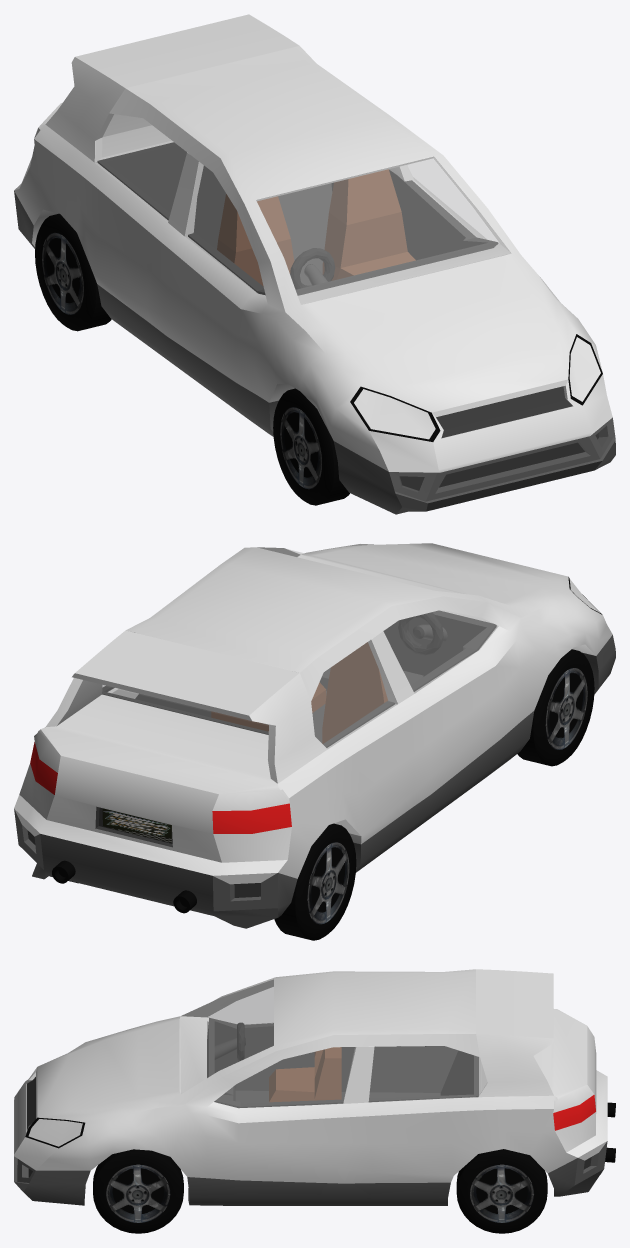
The model's file is GTI.fbx.
3 renders of one model, top to bottom at view 1: azimuth 30°, elevation 25°; view 2: azimuth 150°, elevation 25°; view 3: azimuth 270°, elevation 25°, orthographic. The views are drawn at different scales.
Parts seen in each view (by area): view 1: GTI, front_right.013, back_right.013, steeringwheel.005; view 2: GTI, back_right.013, front_right.013, number_plate.005, steeringwheel.005, exhaust.003; view 3: GTI, front_left.013, back_left.013.
Part boxes in pixels (left/top/right/bottom): GTI: left=14, top=14, right=615, bottom=514; front_right.013: left=273, top=388, right=349, bottom=505; back_right.013: left=35, top=213, right=111, bottom=331; steeringwheel.005: left=290, top=248, right=335, bottom=289; GTI: left=14, top=543, right=615, bottom=928; back_right.013: left=274, top=823, right=356, bottom=940; front_right.013: left=517, top=649, right=594, bottom=766; number_plate.005: left=102, top=808, right=171, bottom=842; steeringwheel.005: left=398, top=612, right=443, bottom=655; exhaust.003: left=52, top=860, right=196, bottom=913; GTI: left=14, top=969, right=607, bottom=1205; front_left.013: left=93, top=1149, right=183, bottom=1233; back_left.013: left=456, top=1149, right=547, bottom=1233.
Bounding box in the file's own units: 300 × 120 × 101.
